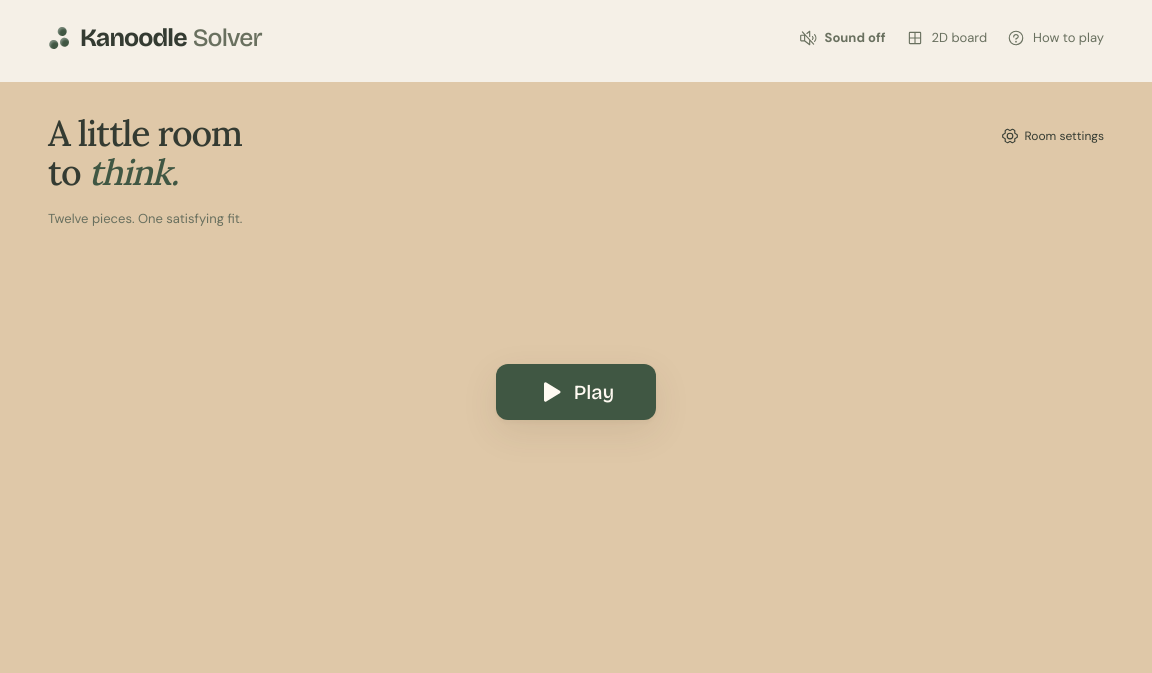
AccessibleBoard › Turn piece over updates the nearby orientation summary
This screenshot has width=1152, height=673.
Click the button "2D board".
click(946, 38)  # box [906, 16, 987, 60]
(page scrolled)
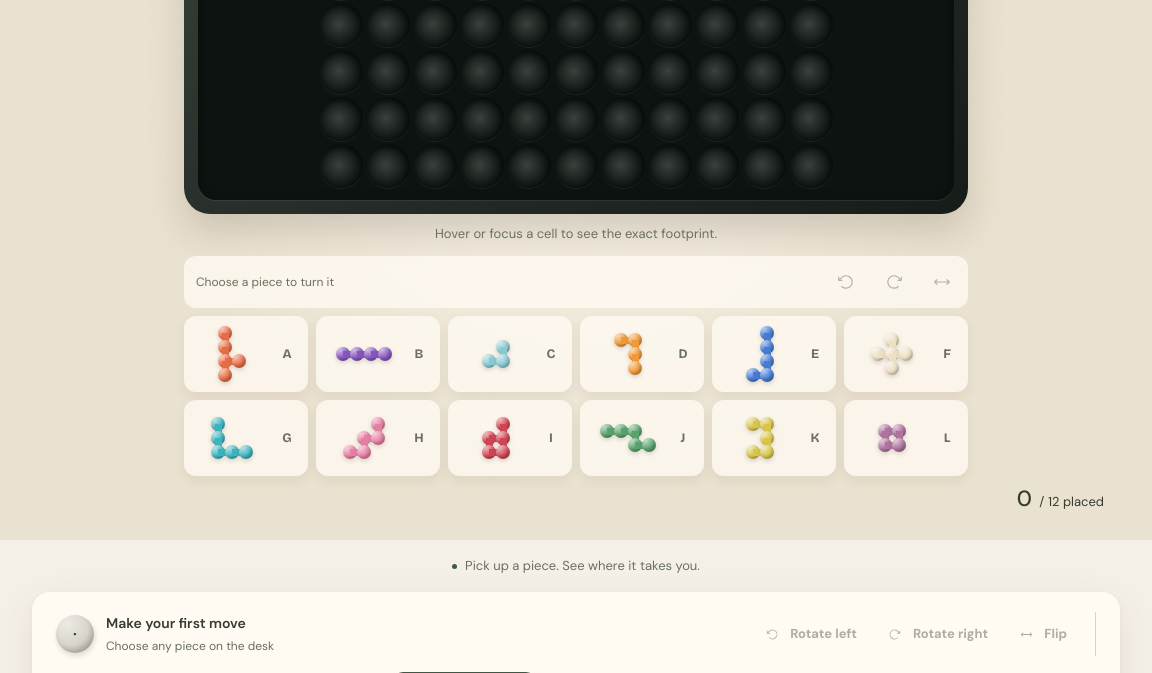
Click the button named "Select piece C".
click(510, 354)  # box [448, 316, 572, 392]
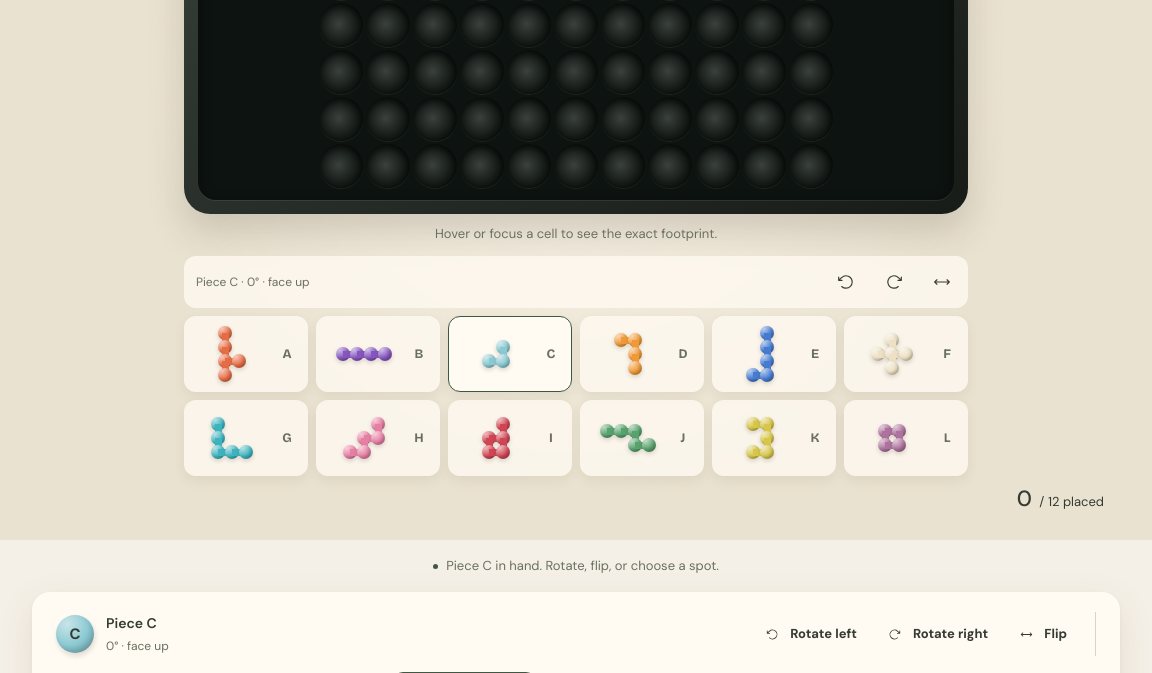
Click the button named "Turn piece over".
click(942, 282)  # box [920, 260, 964, 304]
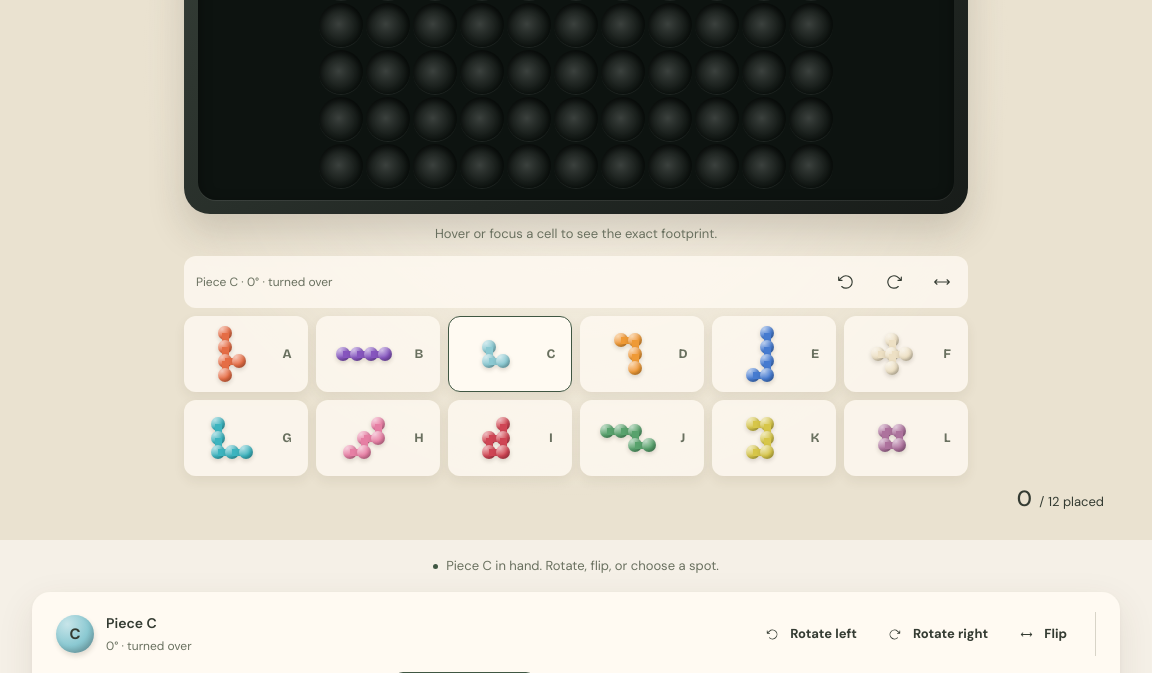
Expected: the text "Piece C · 0° · turned over" is shown, [196, 273, 332, 292]
